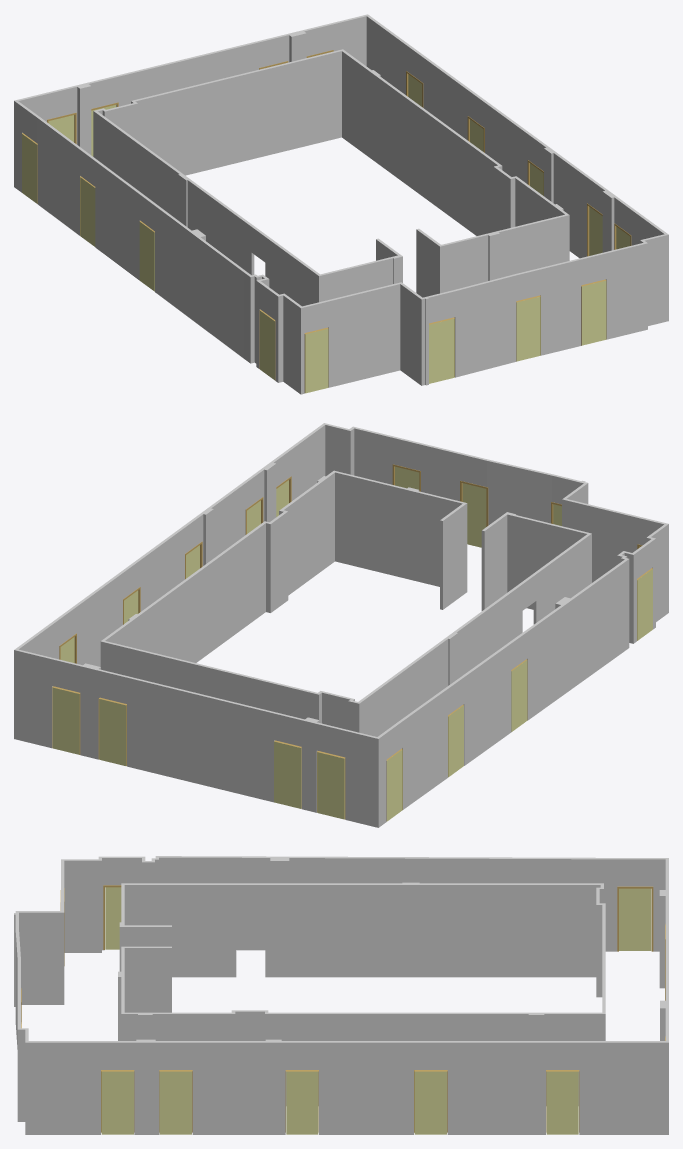
The picture shows the model from 3 angles, top to bottom: view 1: azimuth 30°, elevation 25°; view 2: azimuth 150°, elevation 25°; view 3: azimuth 270°, elevation 25°; orthographic projection. The views are drawn at different scales.
Parts seen in each view (by area): view 1: walls, Cube_002, marco_002; view 2: walls, Cube_002, marco_002; view 3: walls, Cube_002, marco_002.
Part boxes in pixels (box(x1,y1,x2,y2)): walls: box(14, 14, 668, 394); Cube_002: box(22, 74, 630, 393); marco_002: box(22, 50, 631, 392); walls: box(14, 423, 668, 827); Cube_002: box(52, 466, 652, 821); marco_002: box(52, 464, 652, 820); walls: box(14, 856, 668, 1134); Cube_002: box(101, 887, 651, 1134); marco_002: box(21, 885, 665, 1132).
Size of the model in its own units: 10.25 by 15.22 by 2.37.
